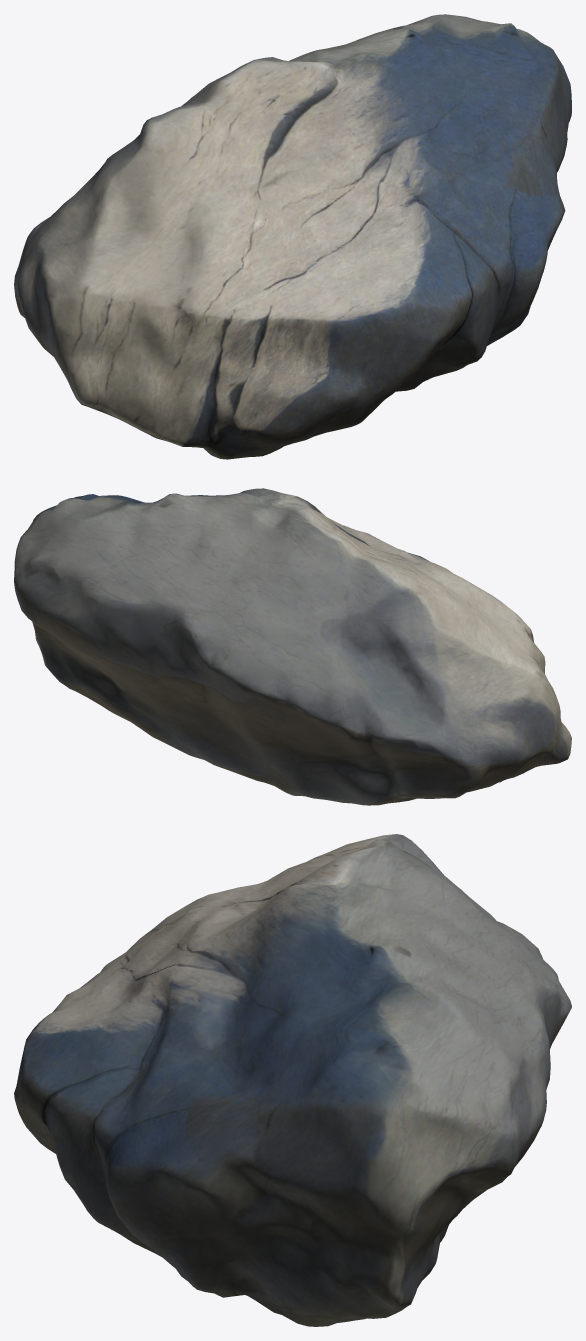
The model's file is Meshy_AI_Stylized_rock_0224025150_texture.glb.
3 views of the same model, one above another, from view 1: azimuth 30°, elevation 25°; view 2: azimuth 150°, elevation 25°; view 3: azimuth 270°, elevation 25° (orthographic). The views are drawn at different scales.
Size of the model in its own units: 2 by 1.1 by 1.39.
1 material, 1 textured.
